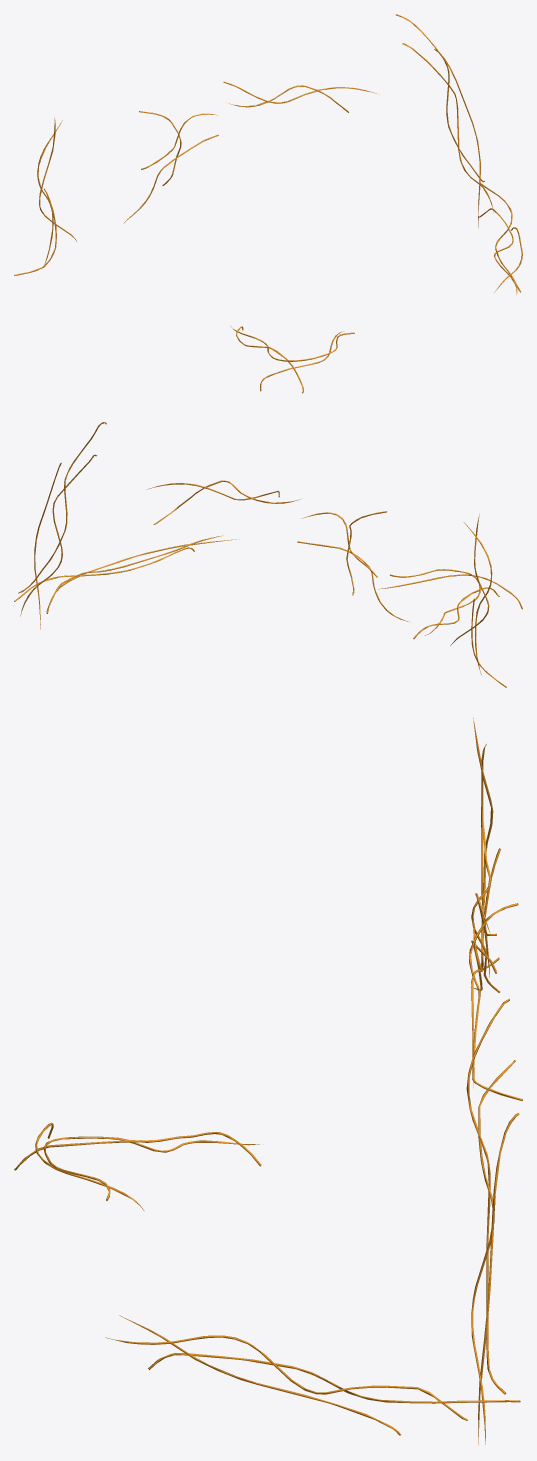
File: microfil2.glb
3 views of the same model, one above another, from view 1: azimuth 30°, elevation 25°; view 2: azimuth 150°, elevation 25°; view 3: azimuth 270°, elevation 25° (orthographic). The views are drawn at different scales.
Parts seen in each view (by area): view 1: Microfilaments; view 2: Microfilaments; view 3: Microfilaments.
Part boxes in pixels (x1,y1,x2,y2): Microfilaments: (14, 14, 522, 393); Microfilaments: (14, 422, 522, 687); Microfilaments: (14, 717, 522, 1444).
Bounding box in the file's own units: 16.94 × 7.64 × 9.12.
